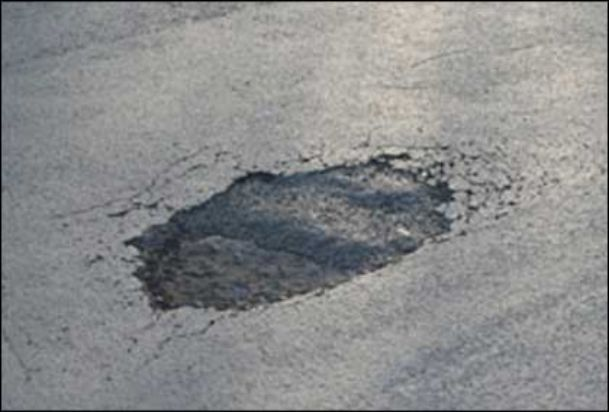pothole: (118, 149, 458, 318)
